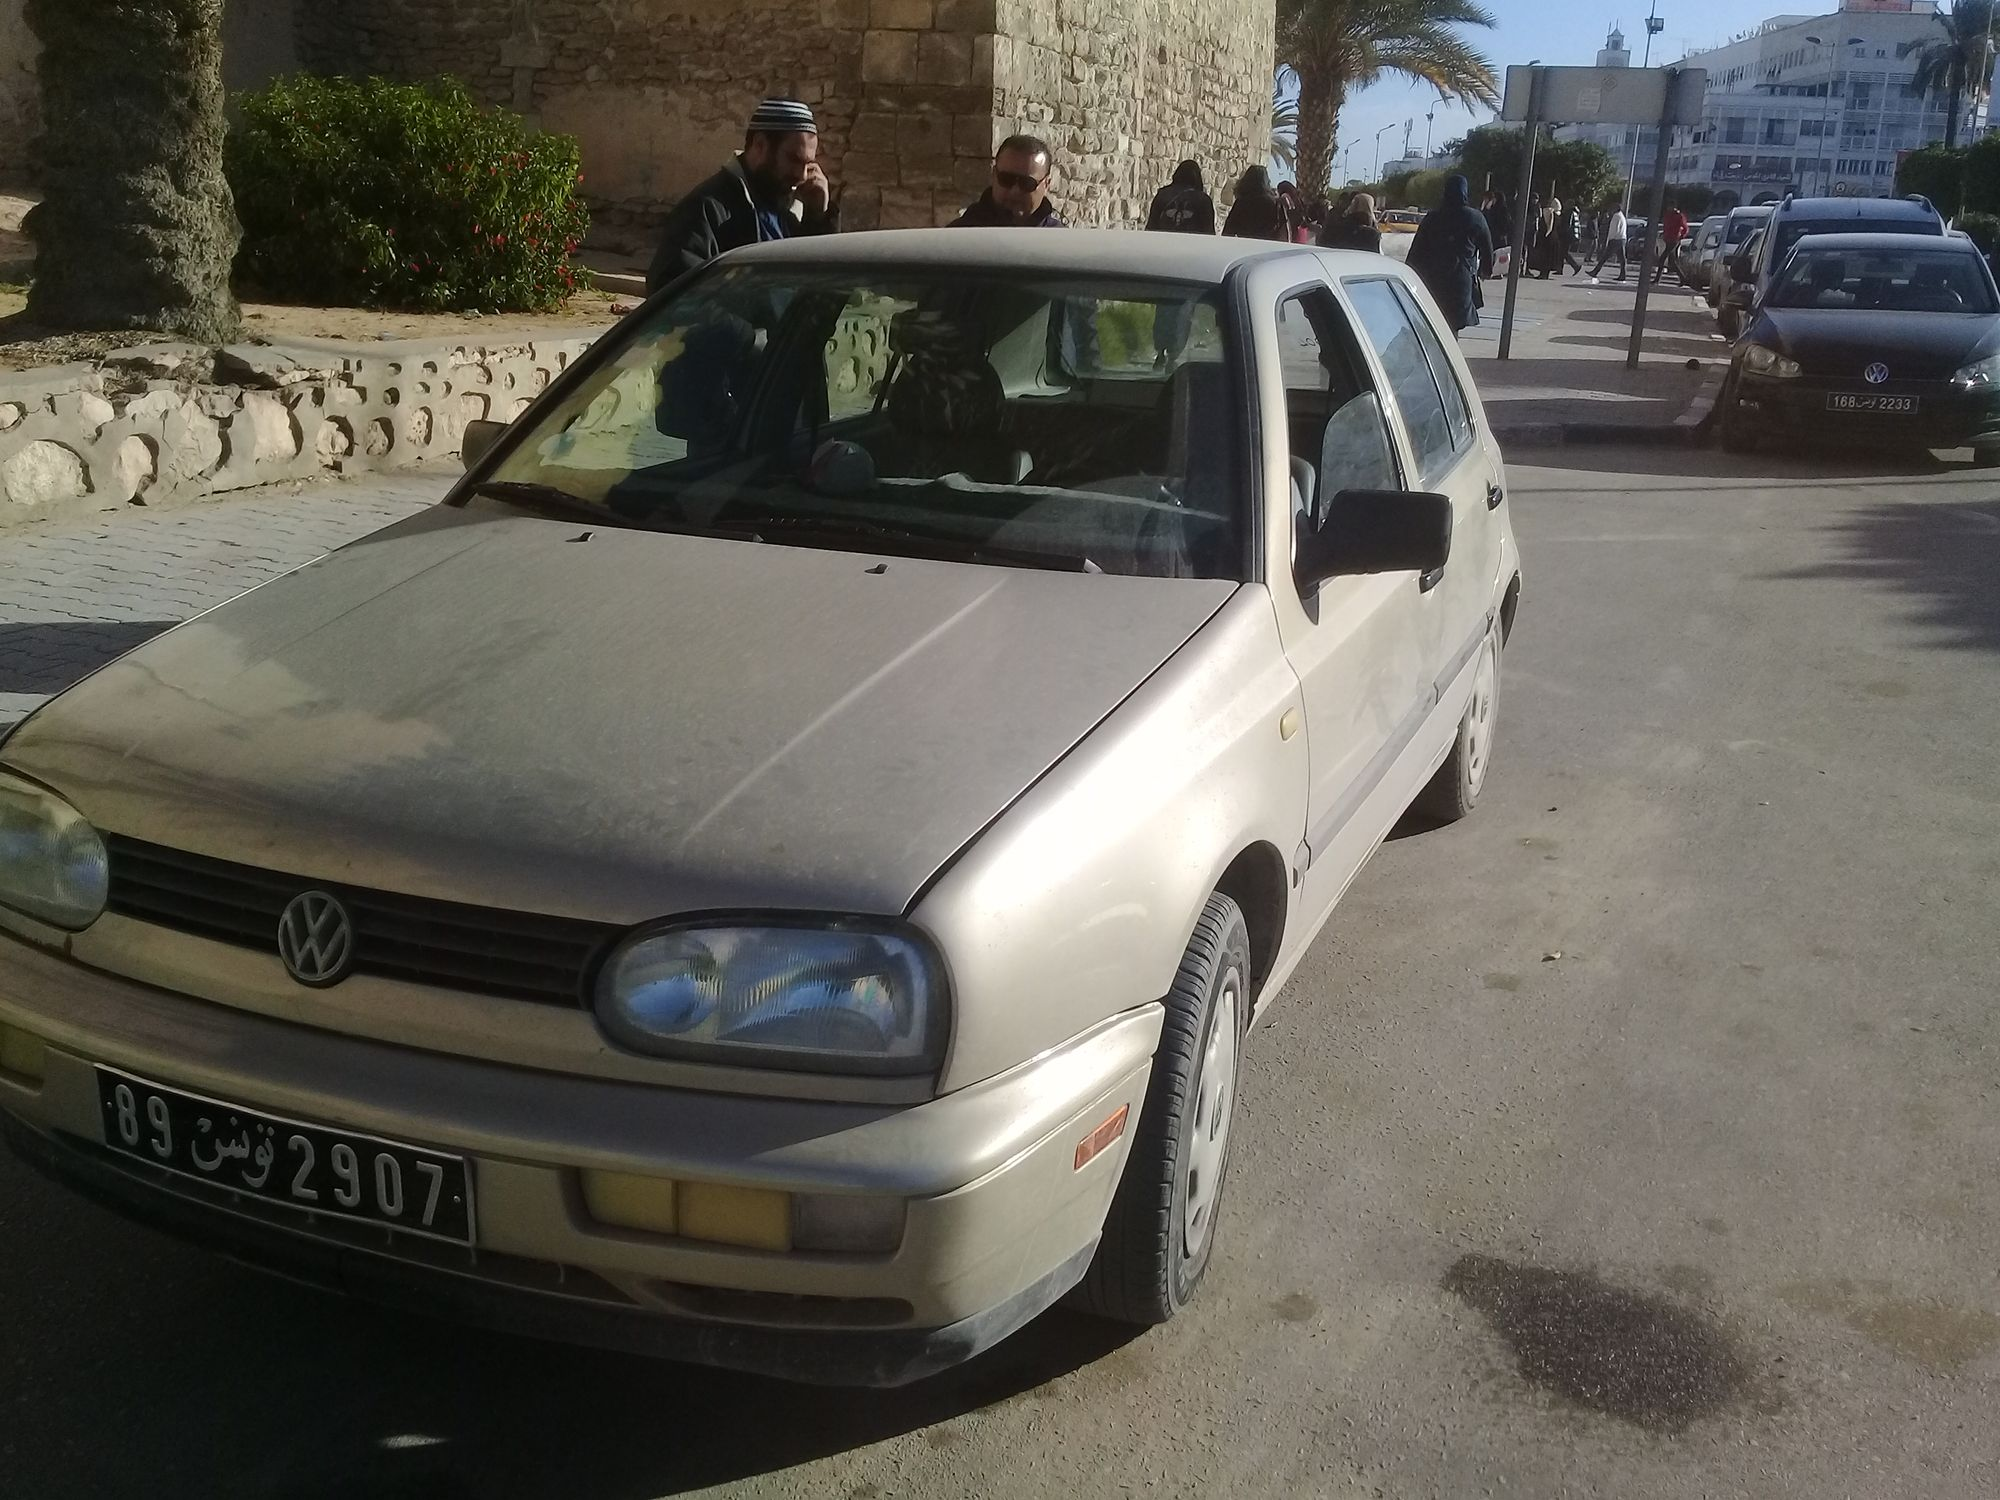LP: (81, 1053, 478, 1248)
